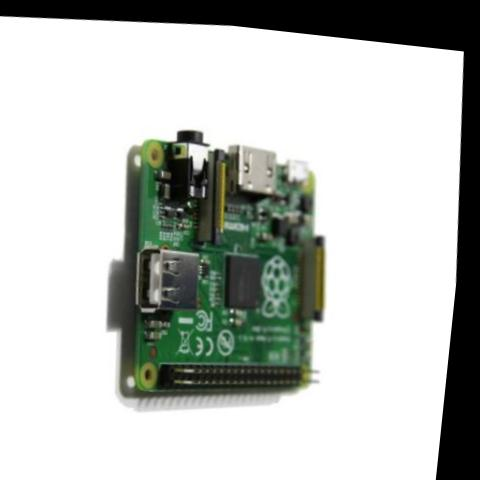Raspberry-Pi-1-Model-A-: (74, 101, 372, 442)
